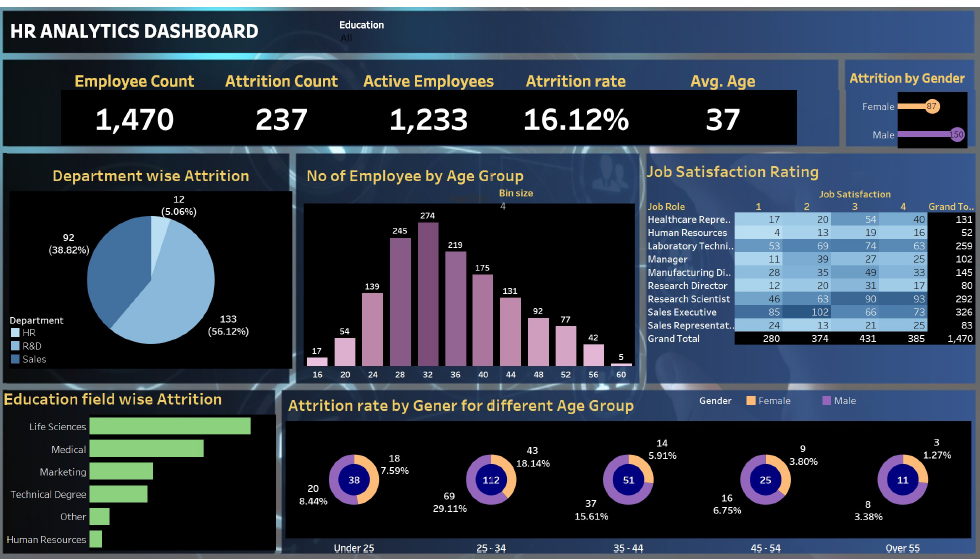

Layout of this report page (visuals, bound fields, positions):
{"tool":"tableau","page":{"name":"HR Analytics","canvas":[1580,900],"ordinal":0},"visuals":[{"type":"image","param":"Image/HR background.pptx.png","box":[8,8,1564,884]},{"type":"text","box":[26,24,703,50]},{"type":"filter","title":"Department wise Attrition","param":"[federated.0cxoth106dy2c31h894xg07lzxwv].[none:Education:nk]","box":[552,28,248,60]},{"type":"worksheet","title":"Attrition by Gender","mark":"Automatic","rows":["Gender"],"cols":["Calculation_2044634249388605440","Calculation_2044634249388605440"],"box":[1357.8,103.7,191.1,132]},{"type":"worksheet","title":"KPI","mark":"Automatic","box":[109.9,105.2,1167.7,126]},{"type":"worksheet","title":"Job Satisfaction Rating","mark":"Square","rows":["Job Role"],"cols":["Job Satisfaction"],"box":[1035.3,249.3,525.8,357]},{"type":"worksheet","title":"Department wise Attrition","mark":"Pie","box":[28.5,254.6,448.5,331.4]},{"type":"worksheet","title":"No of Employee by Age Group","mark":"Automatic","rows":["Employee Count"],"cols":["Age (bin)"],"box":[494.6,254.6,525.8,348.9]},{"type":"parameter","param":"[Parameters].[Parameter 1]","box":[804.9,295.1,216.8,115.9]},{"type":"legend","title":"Department wise Attrition","param":"[federated.0cxoth106dy2c31h894xg07lzxwv].[none:Department:nk]","box":[27.1,495.8,218.2,113.2]},{"type":"worksheet","title":"Education field wise Attrition","mark":"Automatic","rows":["Education Field"],"cols":["Calculation_2044634249388605440"],"box":[14.9,610.3,436.3,264.1]},{"type":"worksheet","title":"Attrition rate by Gener for different Age Group","mark":"Pie","rows":["Calculation_1168121173367050241","Calculation_1168121173367050241"],"cols":["CF_age band"],"box":[466.1,619.8,1089.5,260]},{"type":"legend","title":"Attrition rate by Gener for different Age Group","param":"[federated.0cxoth106dy2c31h894xg07lzxwv].[none:Gender:nk]","box":[1123.3,626.5,429.6,35]}]}

Visuals, with their boxes in screenshot pixels (x1, y1, x2, y2), scaled from the page's 1580x900 canvas onto the 980x559 screenshot:
image: BBox(5, 5, 975, 554)
text: BBox(16, 15, 452, 46)
"Department wise Attrition" filter: BBox(342, 17, 496, 55)
"Attrition by Gender" worksheet: BBox(842, 64, 961, 146)
"KPI" worksheet: BBox(68, 65, 792, 144)
"Job Satisfaction Rating" worksheet (Square marks): BBox(642, 155, 968, 377)
"Department wise Attrition" worksheet (Pie marks): BBox(18, 158, 296, 364)
"No of Employee by Age Group" worksheet: BBox(307, 158, 633, 375)
parameter: BBox(499, 183, 634, 255)
"Department wise Attrition" legend: BBox(17, 308, 152, 378)
"Education field wise Attrition" worksheet: BBox(9, 379, 280, 543)
"Attrition rate by Gener for different Age Group" worksheet (Pie marks): BBox(289, 385, 965, 546)
"Attrition rate by Gener for different Age Group" legend: BBox(697, 389, 963, 411)
